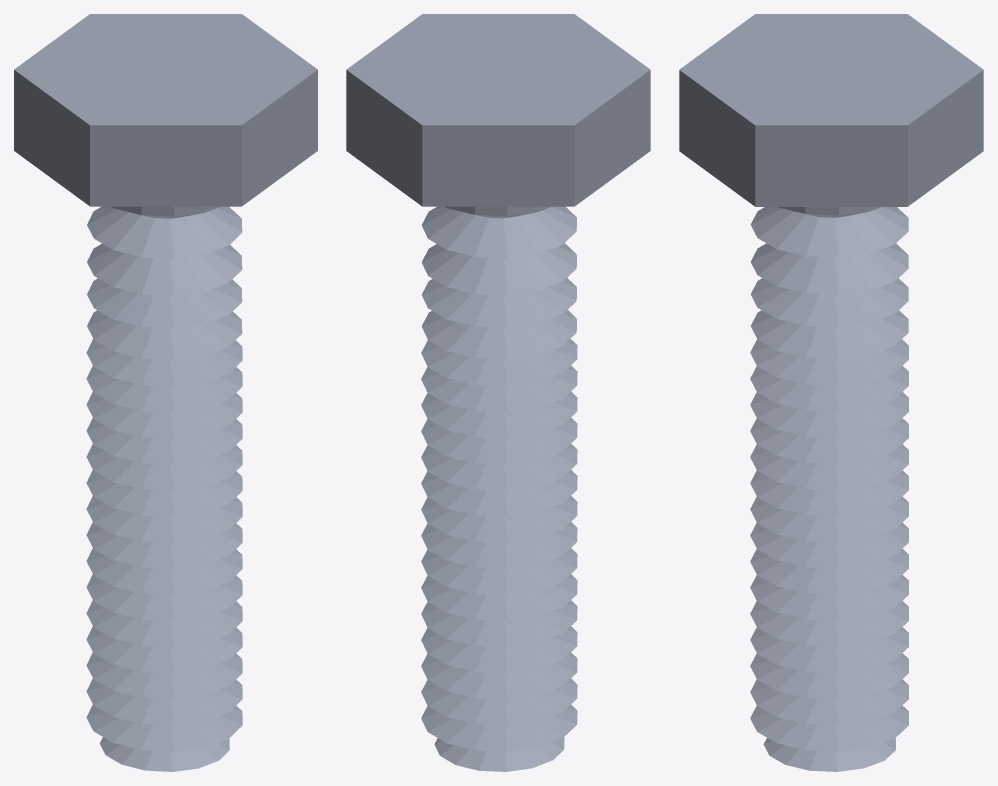
File: HexBolt.glb
3 renders of one model, left to right at view 1: azimuth 30°, elevation 25°; view 2: azimuth 150°, elevation 25°; view 3: azimuth 270°, elevation 25°, orthographic.
Visible parts, largest first — view 1: HexBolt.001; view 2: HexBolt.001; view 3: HexBolt.001.
Boxes of the visible parts, x1,y1,x2,y2 form: HexBolt.001: (14,14,317,771); HexBolt.001: (346,14,650,771); HexBolt.001: (679,14,983,771).
Bounding box in the file's own units: 0.3545 × 1.01 × 0.4094.
1 material, 1 textured.
